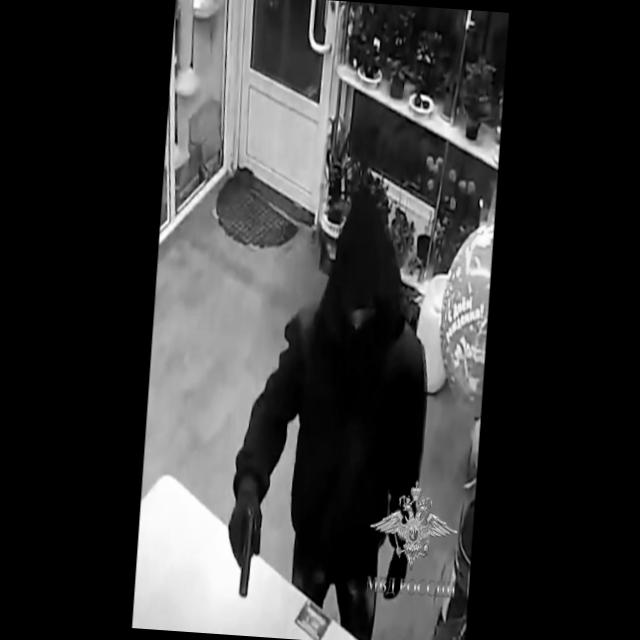gun: (224, 482, 266, 600)
person with a gun: (220, 201, 439, 640)
